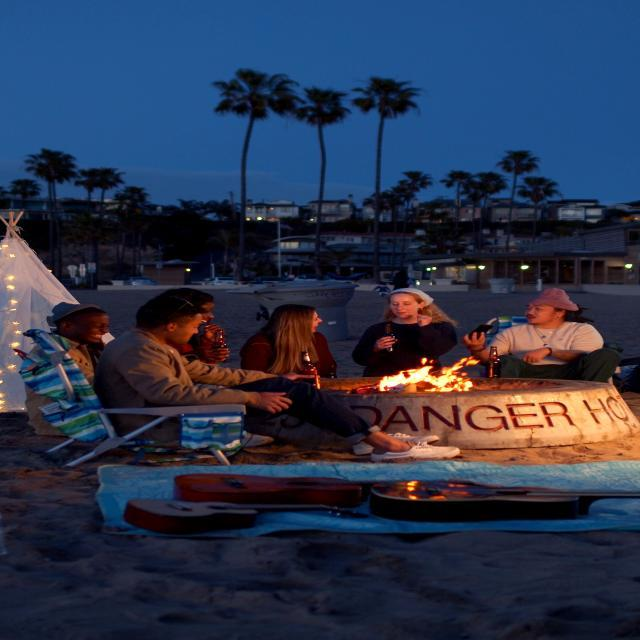Fire: (374, 354, 476, 392)
